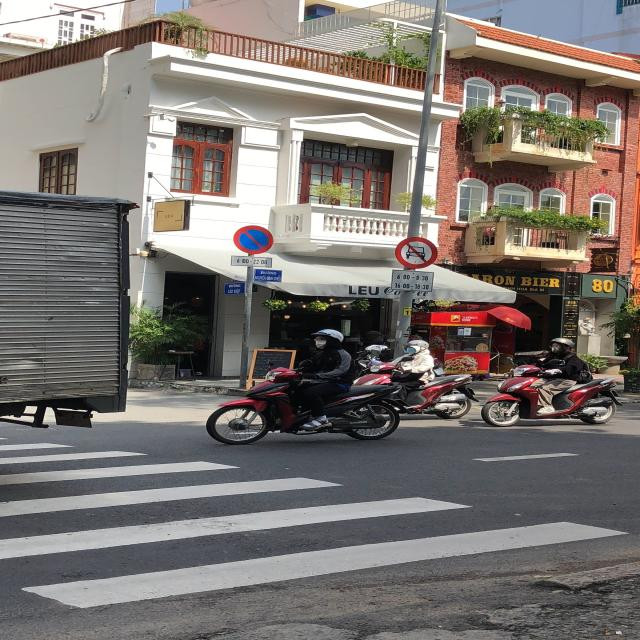Bien bao cam do xe: (232, 220, 278, 254)
Bien bao cam xe oto: (391, 232, 436, 266)
